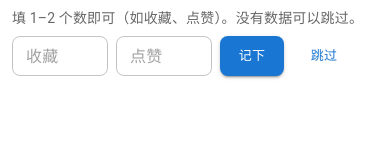
Test: RetroFillForm › shows the failure reason and keeps the form usable for a retry
The width and height of the screenshot is (371, 160).
Click the button "记下".
click(252, 56)  # box [220,36,284,76]
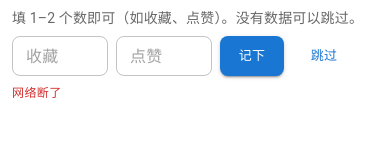
Result: the message reads "网络断了" at [12,86,62,100]
